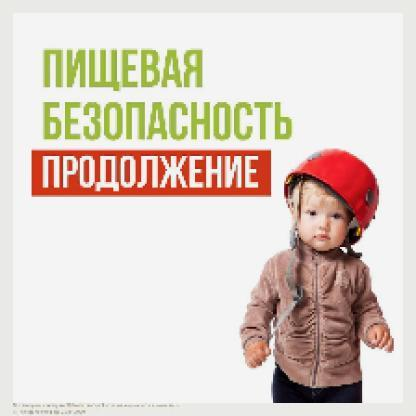child: (240, 177, 396, 404)
